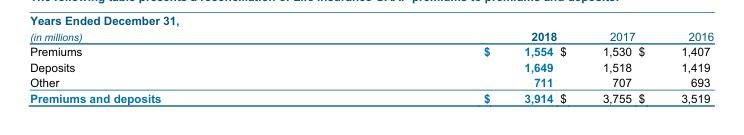table: (29, 29, 713, 104)
table column: (29, 29, 321, 104), (321, 29, 557, 104), (557, 29, 636, 104), (636, 29, 713, 104)
table column header: (29, 29, 713, 43)
table row: (29, 58, 713, 74), (29, 43, 713, 58), (29, 74, 713, 89), (29, 89, 713, 104), (29, 29, 713, 43)
